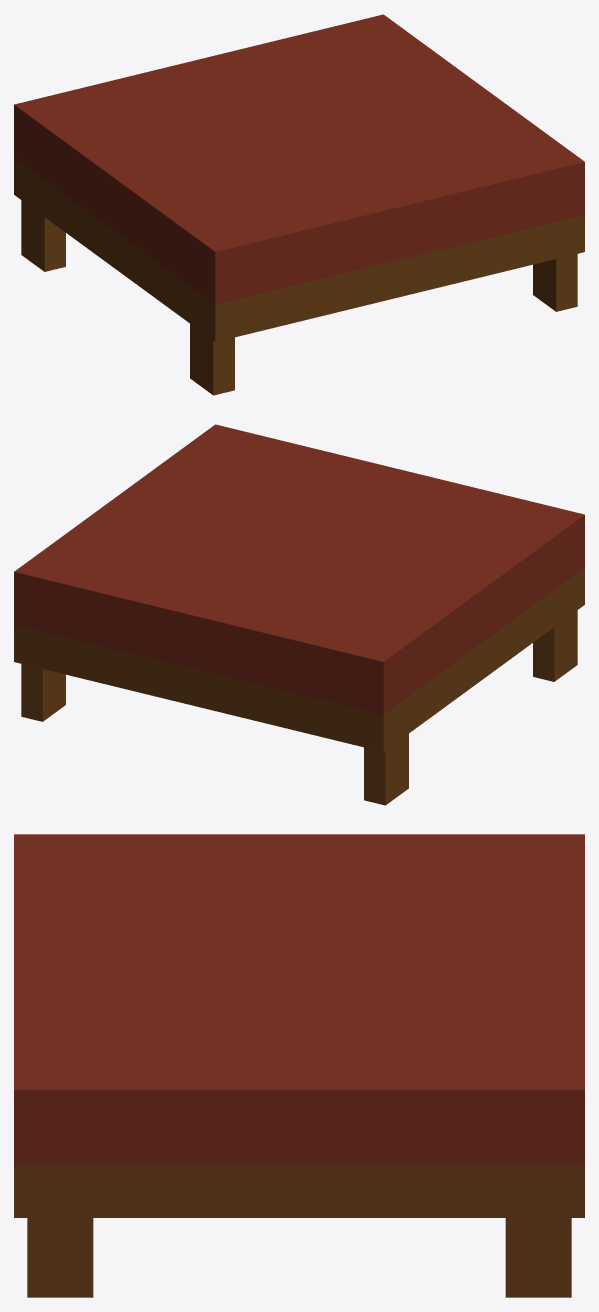
The model's file is Footstool.fbx.
3 renders of one model, top to bottom at view 1: azimuth 30°, elevation 25°; view 2: azimuth 150°, elevation 25°; view 3: azimuth 270°, elevation 25°, orthographic. The views are drawn at different scales.
Visible parts, largest first — view 1: polySurface100; view 2: polySurface100; view 3: polySurface100.
Part boxes in pixels (<box>): polySurface100: <box>14,14,584,395</box>; polySurface100: <box>14,424,584,805</box>; polySurface100: <box>14,834,584,1297</box>.
Bounding box in the file's own units: 126 × 47.99 × 119.
